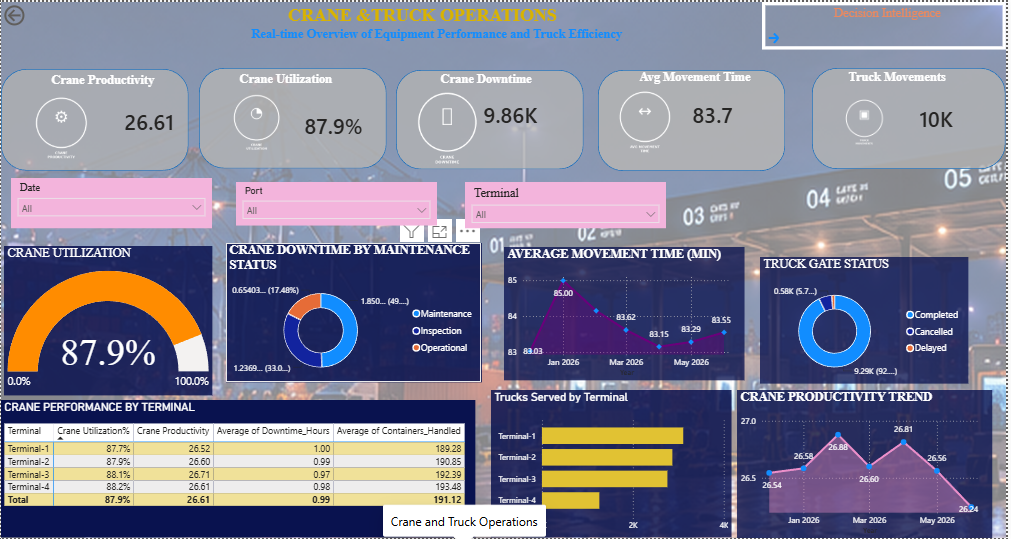

This screenshot's page, from the dashboard's own definition file:
{"tool":"powerbi","page":{"name":"Crane and Truck Operations","canvas":[1500,800],"ordinal":2},"visuals":[{"type":"textbox","box":[335.4,0,721.5,70.8],"z":0},{"type":"gauge","title":"CRANE UTILIZATION","fields":{"Y":["portpulse_db fact_crane_operation.Crane Utilization%"]},"box":[3.8,363.5,310.8,223.1],"z":1000},{"type":"donutChart","title":"CRANE DOWNTIME BY MAINTENANCE STATUS","fields":{"Category":["portpulse_db fact_crane_operation.Maintenance_Status"],"Y":["Avg(portpulse_db fact_crane_operation.Downtime_Hours)"]},"box":[335.6,359.3,381.5,207.7],"z":2000},{"type":"lineChart","title":"AVERAGE MOVEMENT TIME (MIN)","fields":{"Y":["Avg(portpulse_db fact_container_movement.Movement_Time_Min)"],"Category":["portpulse_db dim_date.Date.Variation.Date Hierarchy.Year","portpulse_db dim_date.Date.Variation.Date Hierarchy.Month"]},"box":[750,365.4,359.5,198.6],"z":3000},{"type":"donutChart","title":"TRUCK GATE STATUS","fields":{"Category":["portpulse_db fact_truck_movement.Gate_Status"],"Y":["CountNonNull(portpulse_db fact_truck_movement.Truck_Movement_ID)"]},"box":[1132.7,380.8,310.8,189.2],"z":4000},{"type":"clusteredBarChart","title":"Trucks Served by Terminal","fields":{"Category":["portpulse_db dim_port.Terminal"],"Y":["portpulse_db fact_truck_movement.Total Trucks Served"]},"box":[730.8,578.8,359.5,220.3],"z":5000},{"type":"pivotTable","title":"CRANE PERFORMANCE BY TERMINAL","fields":{"Rows":["portpulse_db dim_port.Terminal"],"Values":["portpulse_db fact_crane_operation.Crane Utilization%","portpulse_db fact_crane_operation.Crane Productivity","Avg(portpulse_db fact_crane_operation.Downtime_Hours)","Avg(portpulse_db fact_crane_operation.Containers_Handled)"]},"box":[0,594.2,708.1,205.4],"z":6000},{"type":"shape","box":[0,100,280,151.7],"z":7000},{"type":"shape","box":[295,98.3,280,150],"z":8000},{"type":"textbox","box":[63.3,100,190,38.3],"z":9000},{"type":"shape","box":[590,101.7,280,148.3],"z":10000},{"type":"shape","box":[890.5,101.6,279.4,150.8],"z":11000},{"type":"shape","box":[1211.1,98.4,288.9,150.8],"z":12000},{"type":"cardVisual","fields":{"Data":["portpulse_db fact_crane_operation.Crane Productivity"]},"box":[155,138.3,140,75],"z":13000},{"type":"textbox","box":[350,98.3,201.7,40],"z":14000},{"type":"lineChart","title":"CRANE PRODUCTIVITY TREND","fields":{"Y":["portpulse_db fact_crane_operation.Crane Productivity"],"Category":["portpulse_db dim_date.Date.Variation.Date Hierarchy.Year","portpulse_db dim_date.Date.Variation.Date Hierarchy.Month"]},"box":[1098.1,578.8,380.8,221.2],"z":15000},{"type":"textbox","title":"Avg Movement Time","box":[948.3,101.7,188.3,33.3],"z":16000},{"type":"textbox","box":[650,98.3,188.3,50],"z":17000},{"type":"textbox","title":"Truck Movements","box":[1260,101.7,205,36.7],"z":18000},{"type":"cardVisual","fields":{"Data":["portpulse_db fact_crane_operation.Crane Downtime"]},"box":[691.7,118.3,146.7,95],"z":19000},{"type":"cardVisual","fields":{"Data":["portpulse_db fact_crane_operation.Crane Utilization%"]},"box":[423.3,135,151.7,95],"z":20000},{"type":"cardVisual","fields":{"Data":["portpulse_db fact_container_movement.Avg Movement Time"]},"box":[1003.3,130,150,71.7],"z":21000},{"type":"cardVisual","fields":{"Data":["portpulse_db fact_truck_movement.Truck Movements"]},"box":[1341.7,106.7,158.3,131.7],"z":22000},{"type":"image","box":[1211.7,138.3,153.3,83.3],"z":23000},{"type":"image","box":[898.3,123.3,125,113.3],"z":24000},{"type":"image","box":[590,123.3,153.3,131.7],"z":25000},{"type":"image","box":[310,130,141.7,101.7],"z":26000},{"type":"image","box":[0,133.3,180,113.3],"z":27000},{"type":"actionButton","title":"Decision Intelligence","box":[1135.7,0,364.3,71.4],"z":28000},{"type":"actionButton","box":[0,0,100,40],"z":29000},{"type":"slicer","fields":{"Values":["portpulse_db dim_port.Port_Name"]},"box":[350,269.2,300,65.4],"z":30000},{"type":"slicer","fields":{"Values":["portpulse_db dim_port.Terminal"]},"box":[692.3,269.2,300,69.2],"z":31000},{"type":"slicer","fields":{"Values":["portpulse_db dim_date.Date_Time"]},"box":[15.4,263.1,300,75.4],"z":32000}]}

Visuals, with their boxes in screenshot pixels (x1, y1, x2, y2), scaled from the page's 1500x800 canvas onto the 1011x539 screenshot:
textbox: box=[226, 0, 712, 48]
"CRANE UTILIZATION" gauge: box=[3, 245, 212, 395]
"CRANE DOWNTIME BY MAINTENANCE STATUS" donutChart: box=[226, 242, 483, 382]
"AVERAGE MOVEMENT TIME (MIN)" lineChart: box=[506, 246, 748, 380]
"TRUCK GATE STATUS" donutChart: box=[763, 257, 973, 384]
"Trucks Served by Terminal" clusteredBarChart: box=[493, 390, 735, 538]
"CRANE PERFORMANCE BY TERMINAL" pivotTable: box=[0, 400, 477, 538]
shape: box=[0, 67, 189, 170]
shape: box=[199, 66, 388, 167]
textbox: box=[43, 67, 171, 93]
shape: box=[398, 69, 586, 168]
shape: box=[600, 68, 789, 170]
shape: box=[816, 66, 1010, 168]
cardVisual - portpulse_db fact_crane_operation.Crane Productivity: box=[104, 93, 199, 144]
textbox: box=[236, 66, 372, 93]
"CRANE PRODUCTIVITY TREND" lineChart: box=[740, 390, 997, 538]
"Avg Movement Time" textbox: box=[639, 69, 766, 91]
textbox: box=[438, 66, 565, 100]
"Truck Movements" textbox: box=[849, 69, 987, 93]
cardVisual - portpulse_db fact_crane_operation.Crane Downtime: box=[466, 80, 565, 144]
cardVisual - portpulse_db fact_crane_operation.Crane Utilization%: box=[285, 91, 388, 155]
cardVisual - portpulse_db fact_container_movement.Avg Movement Time: box=[676, 88, 777, 136]
cardVisual - portpulse_db fact_truck_movement.Truck Movements: box=[904, 72, 1010, 161]
image: box=[817, 93, 920, 149]
image: box=[605, 83, 690, 159]
image: box=[398, 83, 501, 172]
image: box=[209, 88, 304, 156]
image: box=[0, 90, 121, 166]
"Decision Intelligence" actionButton: box=[765, 0, 1010, 48]
actionButton: box=[0, 0, 67, 27]
slicer - portpulse_db dim_port.Port_Name: box=[236, 181, 438, 225]
slicer - portpulse_db dim_port.Terminal: box=[467, 181, 669, 228]
slicer - portpulse_db dim_date.Date_Time: box=[10, 177, 213, 228]
